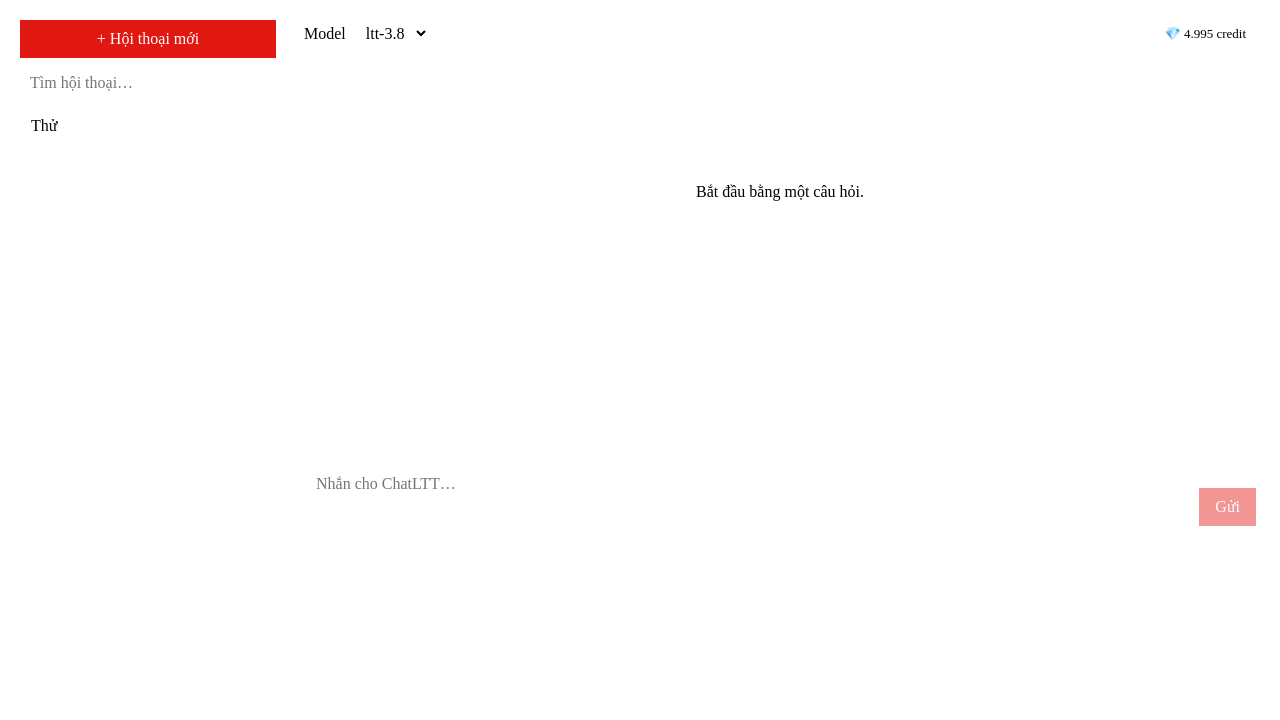
Scenario: App — phim tat › Ctrl+Shift+O mo hoi thoai moi va dua con tro ve o soan
The image size is (1280, 720).
Click the button "Thử": point(148, 126) [20,108,276,144]
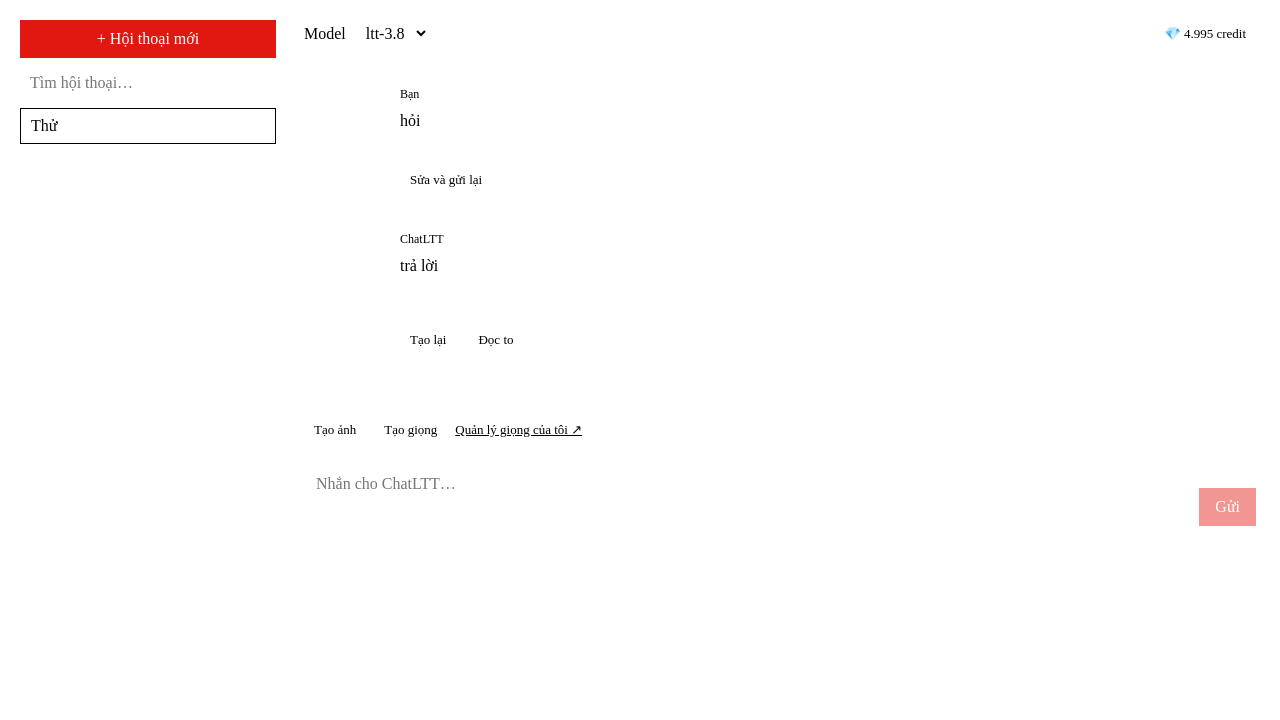
Result: the text "trả lời" is shown at [400,257,438,274]
Press O
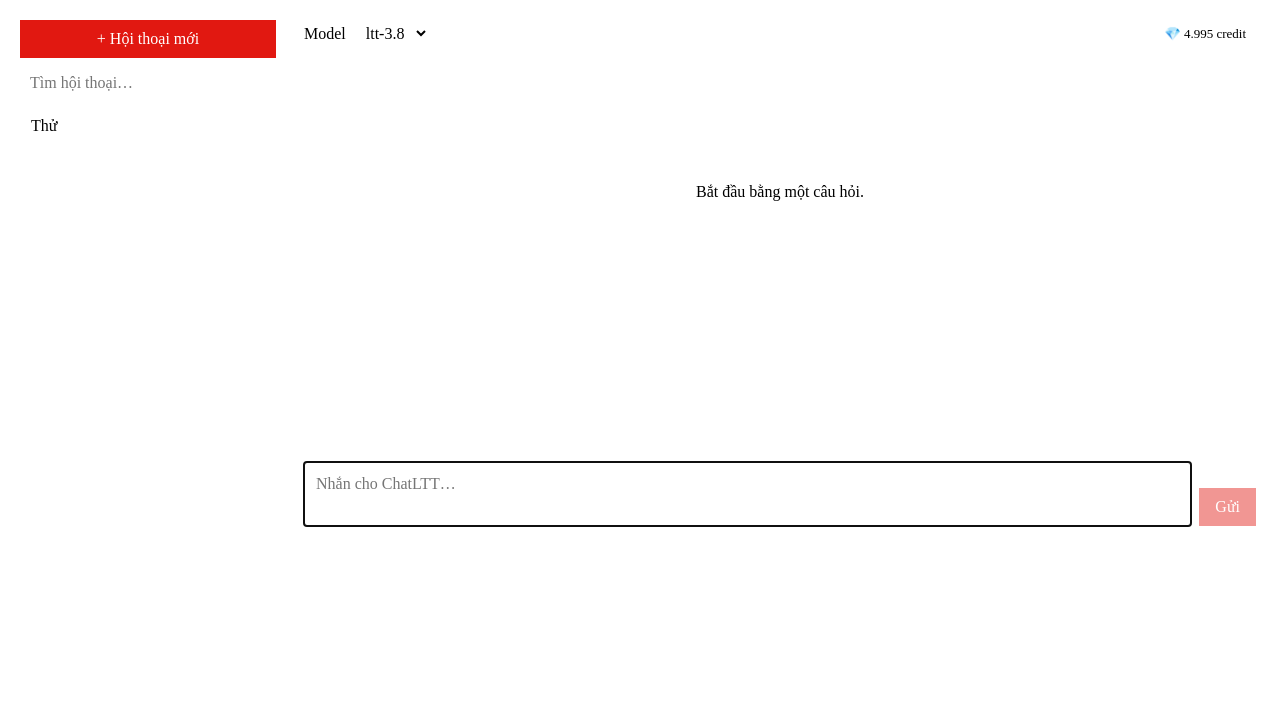
Result: the text "Bắt đầu bằng một câu hỏi." is shown at [696,183,864,200]
